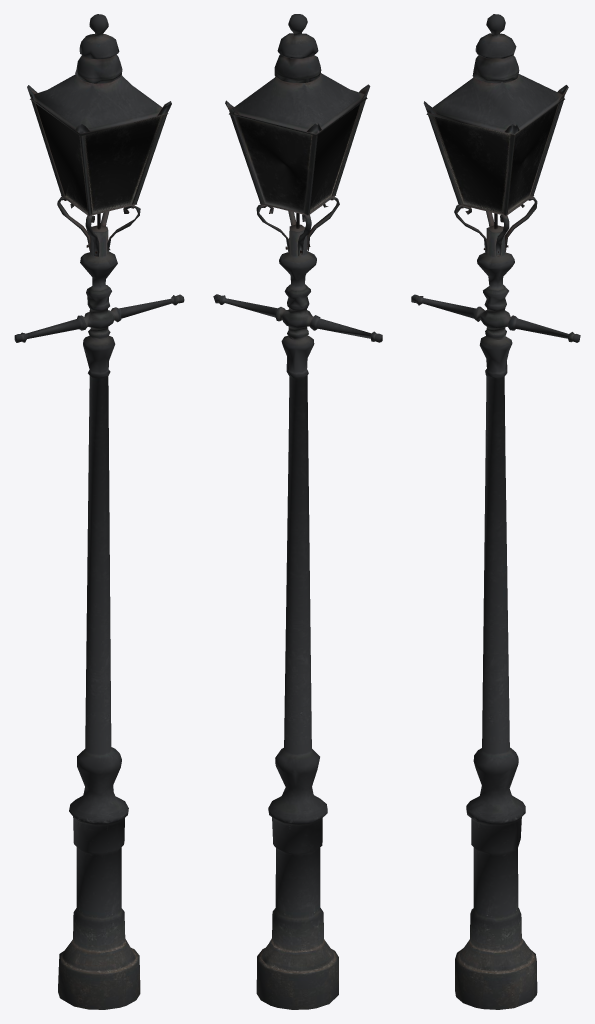
Rendered from street_lamp_01.glb.
The picture shows the model from 3 angles, left to right: view 1: azimuth 30°, elevation 25°; view 2: azimuth 150°, elevation 25°; view 3: azimuth 330°, elevation 25°; orthographic projection.
Visible parts, largest first — view 1: street_lamp_01; view 2: street_lamp_01; view 3: street_lamp_01.
Part boxes in pixels (box(x1,y1,x2,y2)): street_lamp_01: box(14, 14, 184, 1009); street_lamp_01: box(213, 14, 382, 1009); street_lamp_01: box(411, 14, 580, 1009).
Size of the model in its own units: 0.6952 by 3.87 by 0.3853.
Materials: 3 (3 with a texture image).
